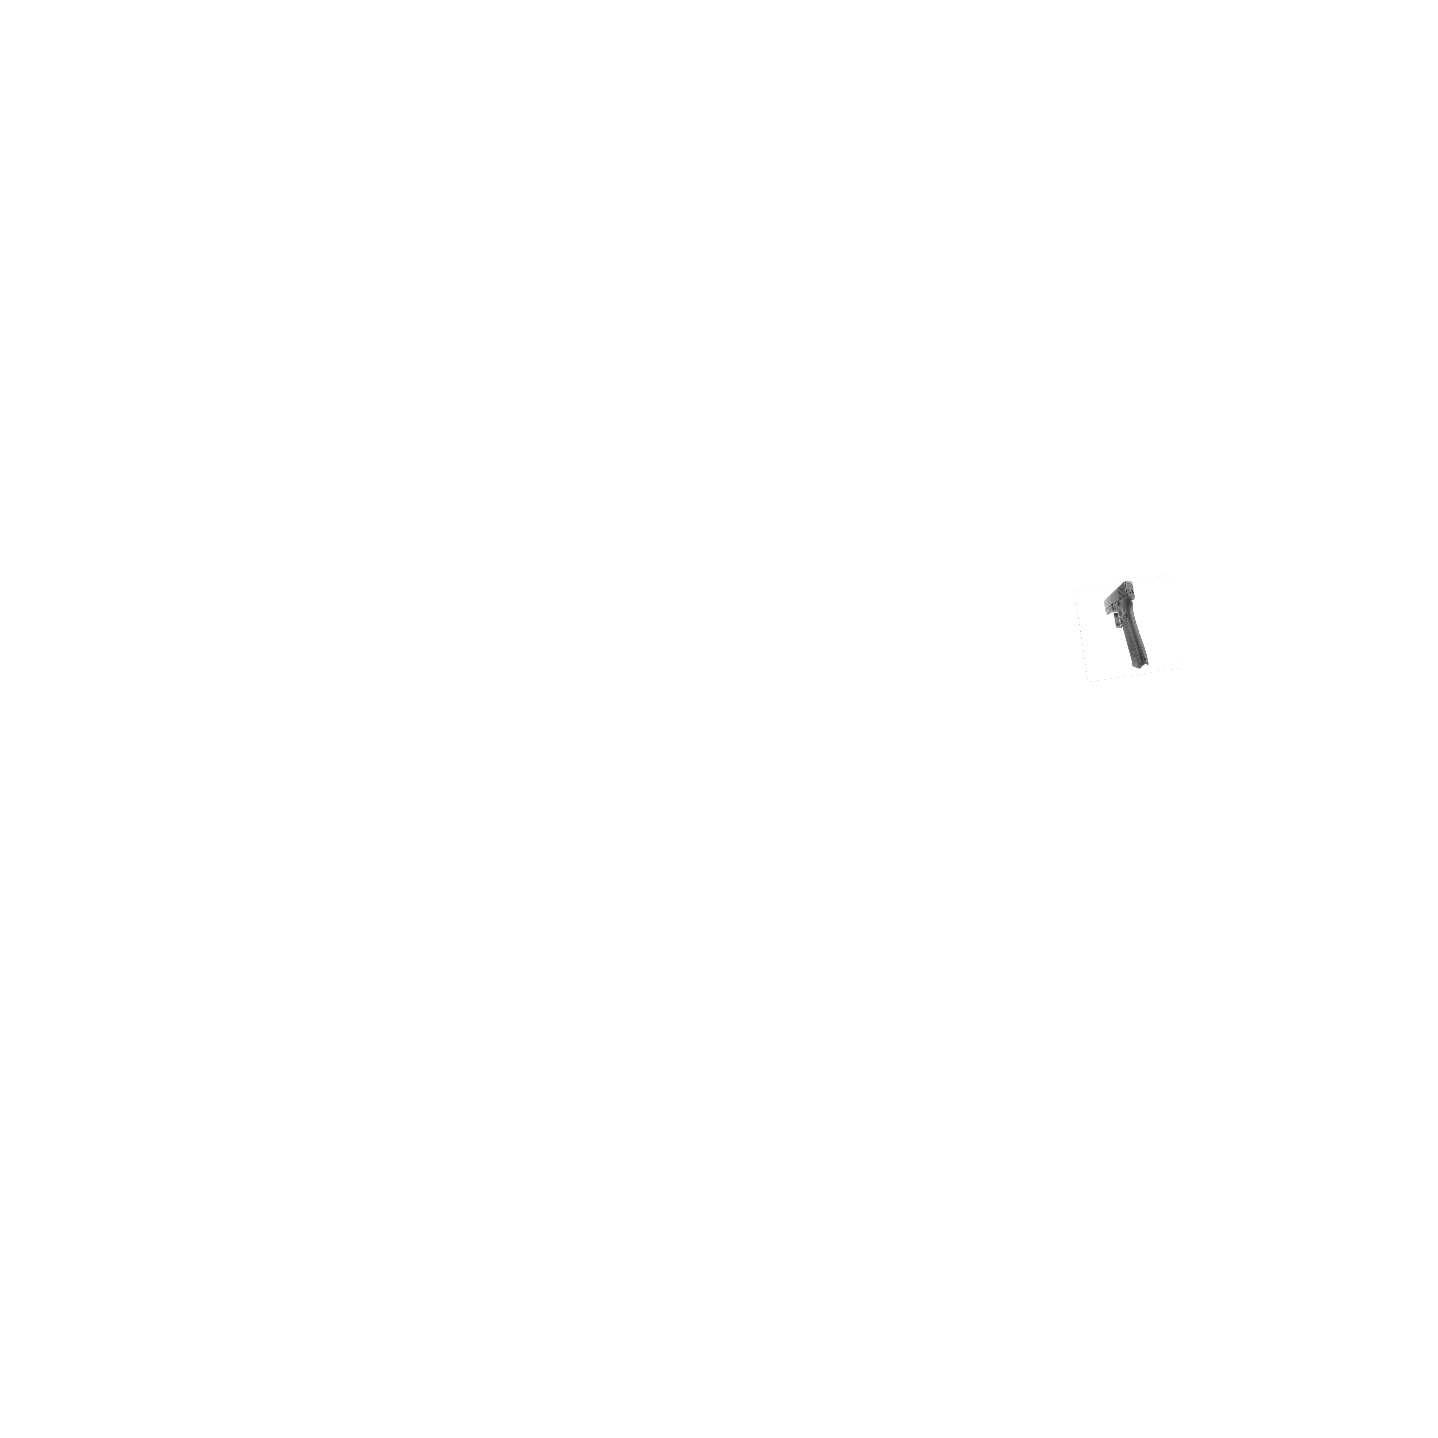gun: (1106, 583, 1154, 669)
